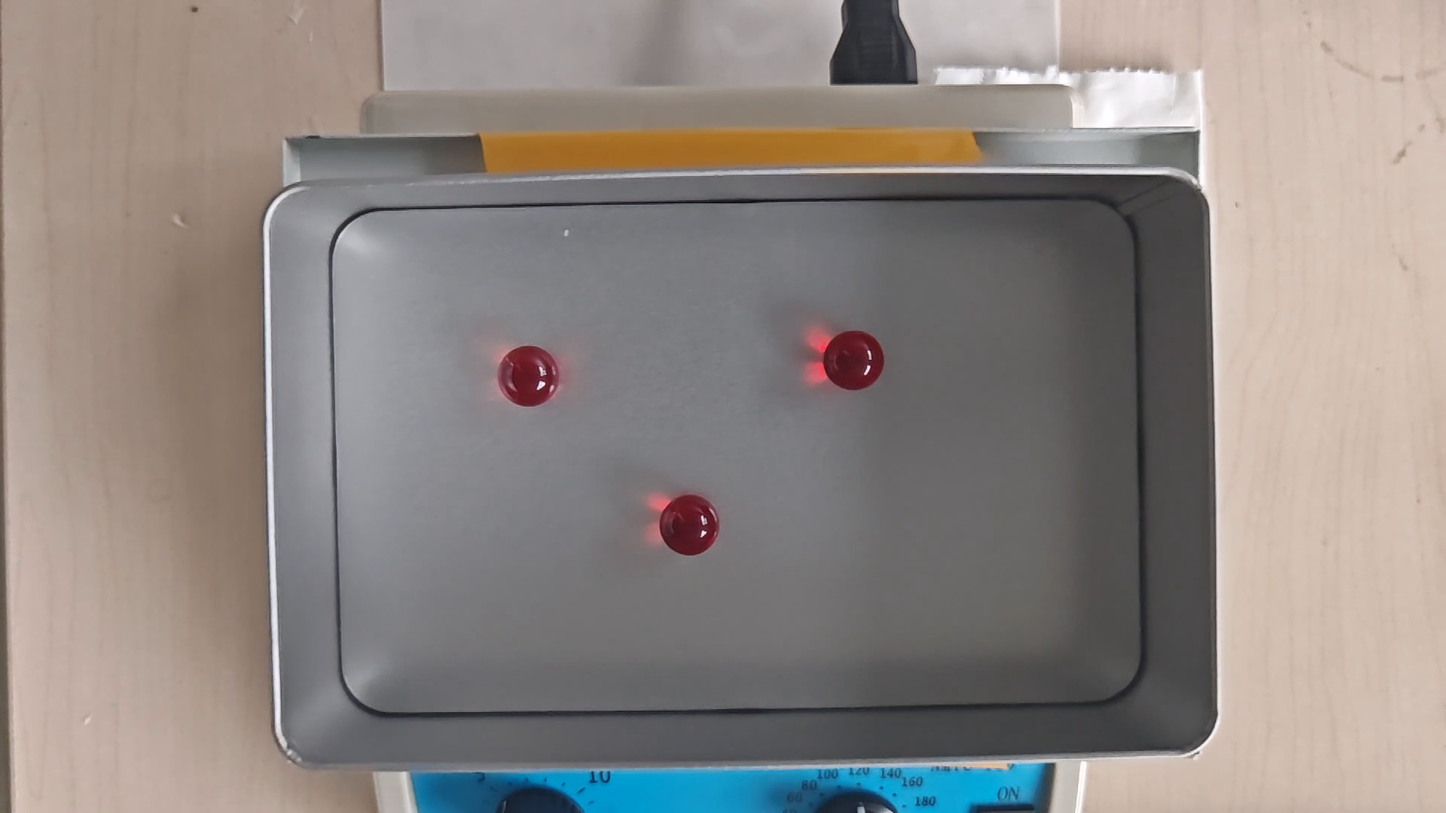ball: (822, 330, 883, 392), (660, 495, 721, 556), (497, 346, 558, 406)
container: (334, 199, 1141, 711)
